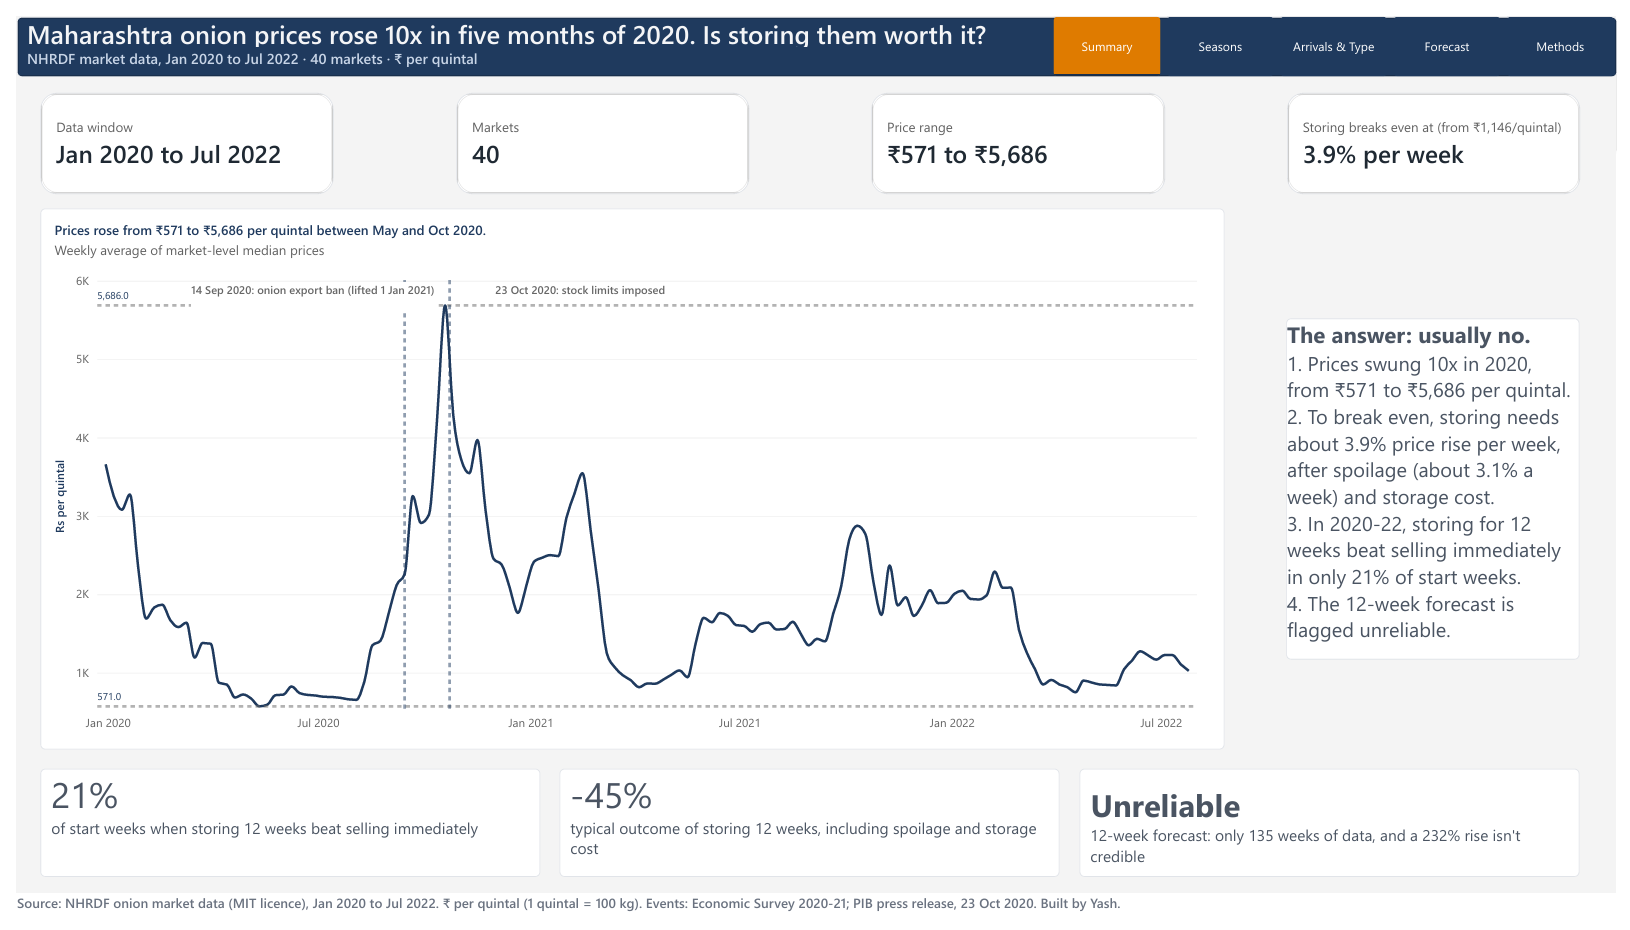

This screenshot's page, from the dashboard's own definition file:
{"tool":"powerbi","page":{"name":"Summary","canvas":[1920,1080],"ordinal":0},"visuals":[{"type":"shape","box":[0,0,1920.4,71.5],"z":0},{"type":"cardVisual","fields":{"Data":["Measures (2).Data window"]},"box":[27.9,90.7,352,122],"z":1000},{"type":"lineChart","title":"Prices rose from ₹571 to ₹5,686 per quintal between May and Oct 2020.","fields":{"Category":["weekly_prices.week_start"],"Y":["Measures (2).Avg Weekly Price"]},"box":[27.9,230.2,1421.1,650.2],"z":2000},{"type":"textbox","title":"Maharashtra onion prices rose 10x in five months of 2020. Is storing them worth it?","box":[0,0,1203.2,36],"z":3000},{"type":"textbox","title":"NHRDF market data, Jan 2020 to Jul 2022 · 40 markets · ₹ per quintal","box":[0,36.6,1034.3,34.9],"z":4000},{"type":"pageNavigator","box":[1243.6,0,676.4,71.3],"z":5000},{"type":"textbox","title":"Source: NHRDF onion market data (MIT licence), Jan 2020 to Jul 2022. ₹ per quintal (1 quintal = 100 kg). Events: Economic Survey 2020-21; PIB press release, 23 Oct 2020. Built by Yash.","box":[0,1053.5,1920.4,26.2],"z":6000},{"type":"textbox","box":[1522.7,362.1,352.3,409.9],"z":7000},{"type":"textbox","box":[27.9,903.5,600,129.1],"z":8000},{"type":"cardVisual","fields":{"Data":["Measures (2).Markets"]},"box":[526.6,90.7,352,122],"z":9000},{"type":"cardVisual","fields":{"Data":["Measures (2).Price range"]},"box":[1025.4,90.7,352.3,122.1],"z":10000},{"type":"cardVisual","fields":{"Data":["Measures (2).Break-even weekly rise"]},"box":[1524.4,90.7,352,122.5],"z":11000},{"type":"textbox","title":"23 Oct 2020: stock limits imposed","box":[573.8,319.2,212.8,17.4],"z":12000},{"type":"textbox","title":"14 Sep 2020: onion export ban (lifted 1 Jan 2021)","box":[209.3,319.2,294.8,33.1],"z":13000},{"type":"textbox","box":[651.5,903.5,600,129.1],"z":14000},{"type":"textbox","box":[1275,903.5,600,129.1],"z":15000}]}

Visuals, with their boxes in screenshot pixels (x1, y1, x2, y2), scaled from the page's 1920x1080 canvas onto the 1630x930 screenshot:
shape: box(0, 0, 1629, 62)
cardVisual - Measures (2).Data window: box(24, 78, 323, 183)
"Prices rose from ₹571 to ₹5,686 per quintal between May and Oct 2020." lineChart: box(24, 198, 1230, 758)
"Maharashtra onion prices rose 10x in five months of 2020. Is storing them worth it?" textbox: box(0, 0, 1021, 31)
"NHRDF market data, Jan 2020 to Jul 2022 · 40 markets · ₹ per quintal" textbox: box(0, 32, 878, 62)
pageNavigator: box(1056, 0, 1629, 61)
"Source: NHRDF onion market data (MIT licence), Jan 2020 to Jul 2022. ₹ per quintal (1 quintal = 100 kg). Events: Economic Survey 2020-21; PIB press release, 23 Oct 2020. Built by Yash." textbox: box(0, 907, 1629, 929)
textbox: box(1293, 312, 1592, 665)
textbox: box(24, 778, 533, 889)
cardVisual - Measures (2).Markets: box(447, 78, 746, 183)
cardVisual - Measures (2).Price range: box(871, 78, 1170, 183)
cardVisual - Measures (2).Break-even weekly rise: box(1294, 78, 1593, 184)
"23 Oct 2020: stock limits imposed" textbox: box(487, 275, 668, 290)
"14 Sep 2020: onion export ban (lifted 1 Jan 2021)" textbox: box(178, 275, 428, 303)
textbox: box(553, 778, 1062, 889)
textbox: box(1082, 778, 1592, 889)
